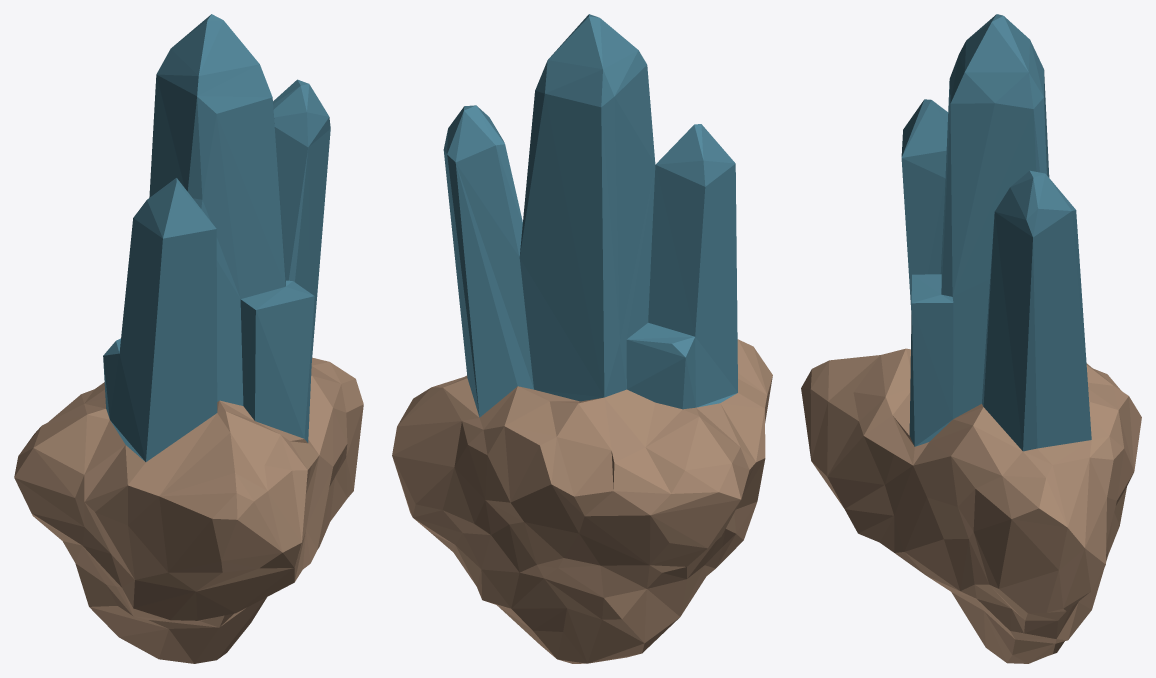
Rendered from SM_LP_Mineral_2.fbx.
3 renders of one model, left to right at view 1: azimuth 30°, elevation 25°; view 2: azimuth 150°, elevation 25°; view 3: azimuth 270°, elevation 25°, orthographic. The views are drawn at different scales.
Parts seen in each view (by area): view 1: SM_LP_Mineral_2; view 2: SM_LP_Mineral_2; view 3: SM_LP_Mineral_2.
Boxes of the visible parts, bbox=[...] form: SM_LP_Mineral_2: bbox=[14, 14, 363, 663]; SM_LP_Mineral_2: bbox=[392, 14, 772, 663]; SM_LP_Mineral_2: bbox=[801, 14, 1141, 663].
Bounding box in the file's own units: 0.8983 × 1.64 × 0.7846.
